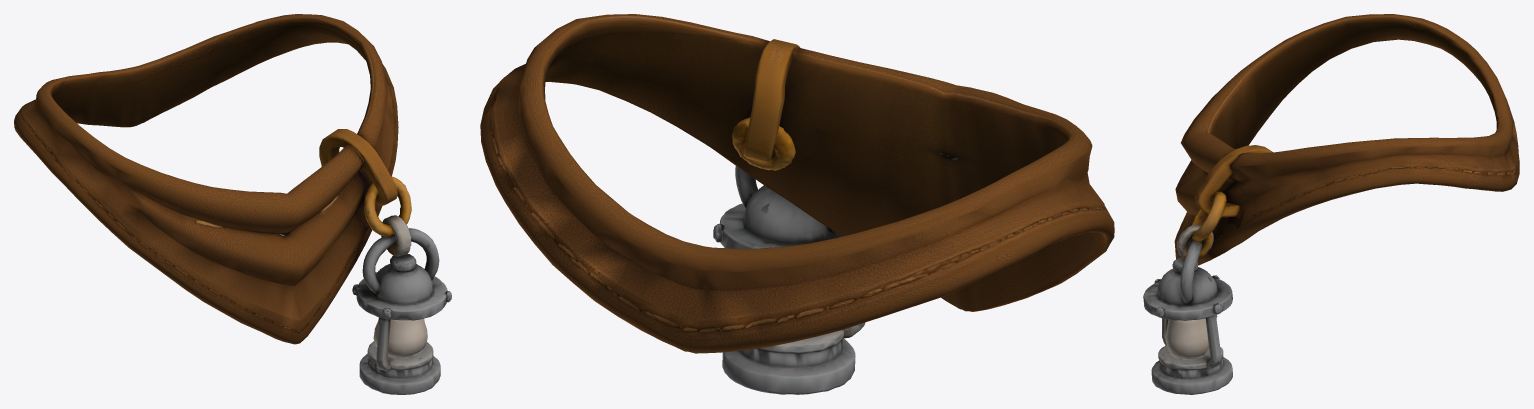
File: mem_ac_leatherlantern.fbx
The picture shows the model from 3 angles, left to right: view 1: azimuth 30°, elevation 25°; view 2: azimuth 150°, elevation 25°; view 3: azimuth 270°, elevation 25°; orthographic projection. The views are drawn at different scales.
Visible parts, largest first — view 1: tripo_node_a8ddf799; view 2: tripo_node_a8ddf799; view 3: tripo_node_a8ddf799.
Boxes of the visible parts, x1,y1,x2,y2 form: tripo_node_a8ddf799: (14, 14, 451, 394); tripo_node_a8ddf799: (480, 14, 1114, 394); tripo_node_a8ddf799: (1143, 14, 1519, 394).
Bounding box in the file's own units: 0.998 × 0.7598 × 0.9824.
